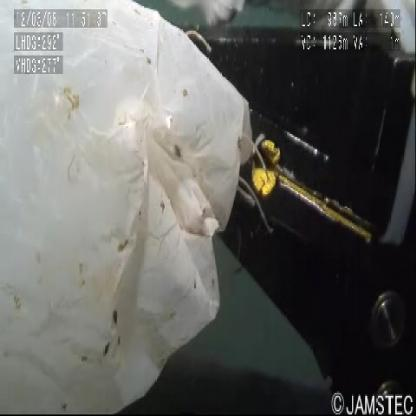Rov: (154, 2, 415, 398), (114, 326, 346, 416)
Rác: (0, 1, 256, 416)
